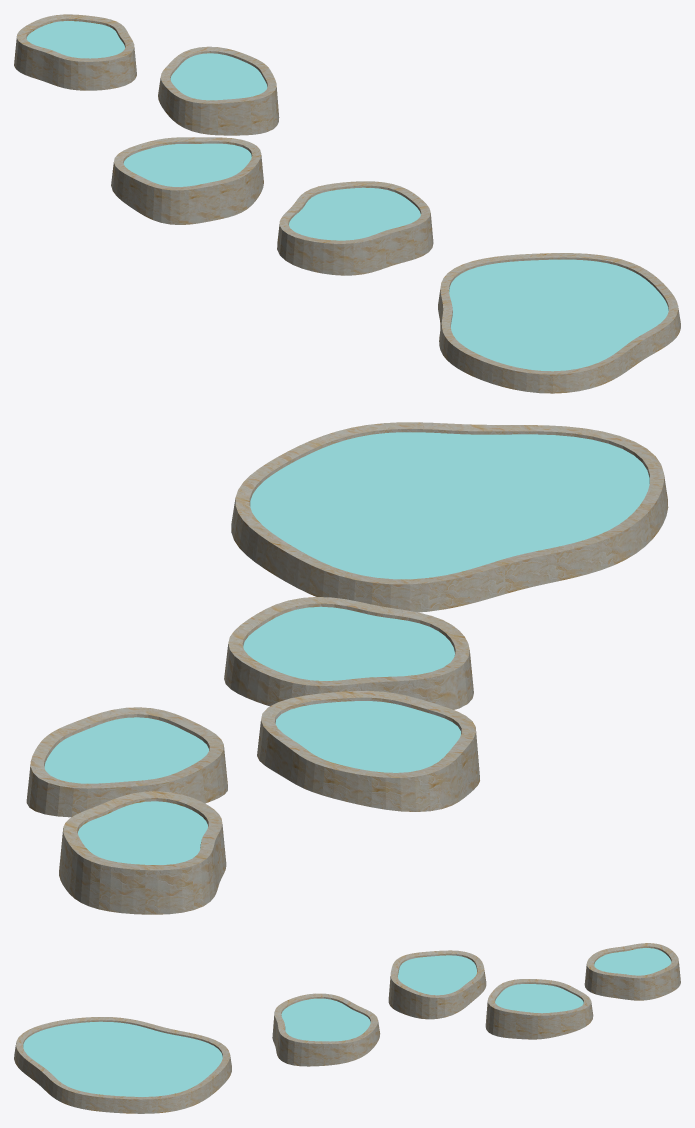
The model's file is springs_v1.glb.
3 renders of one model, top to bottom at view 1: azimuth 30°, elevation 25°; view 2: azimuth 150°, elevation 25°; view 3: azimuth 270°, elevation 25°, orthographic. The views are drawn at different scales.
Parts seen in each view (by area): view 1: LagoonWater, Pool1Water, Pool2Water, Pool3Water, Pool4Water, Pool1Rim08, Pool2Rim08, Pool2Rim09, Pool3Rim09, Pool1Rim09, LagoonRim12, LagoonRim13 (+20 smaller); view 2: LagoonWater, Pool1Water, Pool2Water, Pool3Water, Pool4Water, Pool4Rim05, LagoonRim06, Pool4Rim04, Pool2Rim05, LagoonRim07, LagoonRim09, LagoonRim05 (+25 smaller); view 3: LagoonWater, Pool1Water, Pool2Water, Pool3Water, Pool4Water, Pool1Rim12, Pool2Rim12, Pool1Rim01, Pool3Rim11, LagoonRim01, Pool3Rim12, Pool2Rim01 (+20 smaller).
Boxes of the visible parts, <box> form: LagoonWater: <box>449,259,668,371</box>; Pool1Water: <box>289,187,420,240</box>; Pool2Water: <box>123,143,251,186</box>; Pool3Water: <box>170,53,267,100</box>; Pool4Water: <box>26,21,124,58</box>; Pool1Rim08: <box>312,239,353,275</box>; Pool2Rim08: <box>153,184,188,224</box>; Pool2Rim09: <box>188,181,220,224</box>; Pool3Rim09: <box>218,97,251,135</box>; Pool1Rim09: <box>353,232,386,275</box>; LagoonRim12: <box>502,365,552,393</box>; LagoonRim13: <box>553,363,601,393</box>; LagoonWater: <box>250,432,649,579</box>; Pool1Water: <box>243,606,454,680</box>; Pool2Water: <box>275,701,460,772</box>; Pool3Water: <box>44,717,208,783</box>; Pool4Water: <box>78,801,207,864</box>; Pool4Rim05: <box>145,862,194,914</box>; LagoonRim06: <box>371,575,446,612</box>; Pool4Rim04: <box>98,860,145,914</box>; Pool2Rim05: <box>371,770,430,811</box>; LagoonRim07: <box>446,560,505,608</box>; LagoonRim09: <box>547,535,613,580</box>; LagoonRim05: <box>309,561,376,604</box>; LagoonWater: <box>23,1021,222,1096</box>; Pool1Water: <box>281,998,370,1041</box>; Pool2Water: <box>398,955,476,995</box>; Pool3Water: <box>495,984,583,1013</box>; Pool4Water: <box>594,948,671,975</box>; Pool1Rim12: <box>293,1039,323,1066</box>; Pool2Rim12: <box>409,990,437,1019</box>; Pool1Rim01: <box>324,1039,354,1065</box>; Pool3Rim11: <box>492,1007,519,1038</box>; LagoonRim01: <box>122,1096,158,1113</box>; Pool3Rim12: <box>515,1011,537,1039</box>; Pool2Rim01: <box>437,989,463,1018</box>.
Size of the model in its own units: 70 by 15.56 by 159.
Materials: 2 (1 with a texture image).
